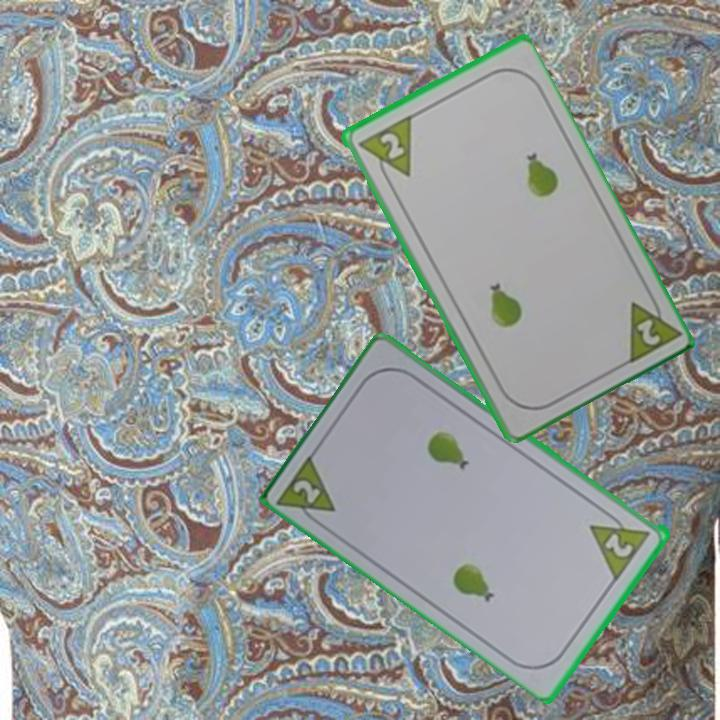2p: (353, 112, 415, 188), (602, 529, 637, 561), (290, 475, 324, 507), (632, 315, 663, 349)
